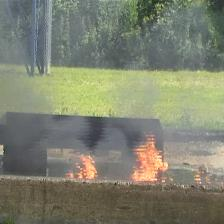fire: (132, 134, 168, 181), (67, 154, 98, 180)
